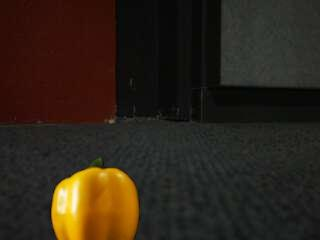Capsicum: (48, 155, 142, 240)
